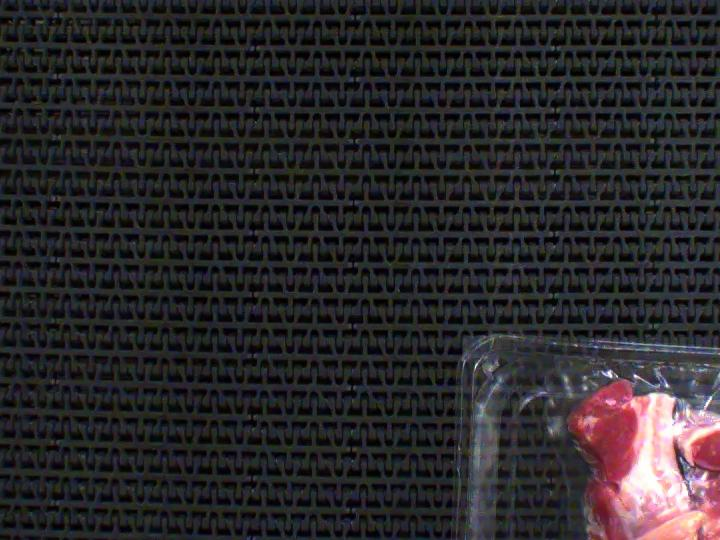unsealed: (510, 340, 720, 540)
